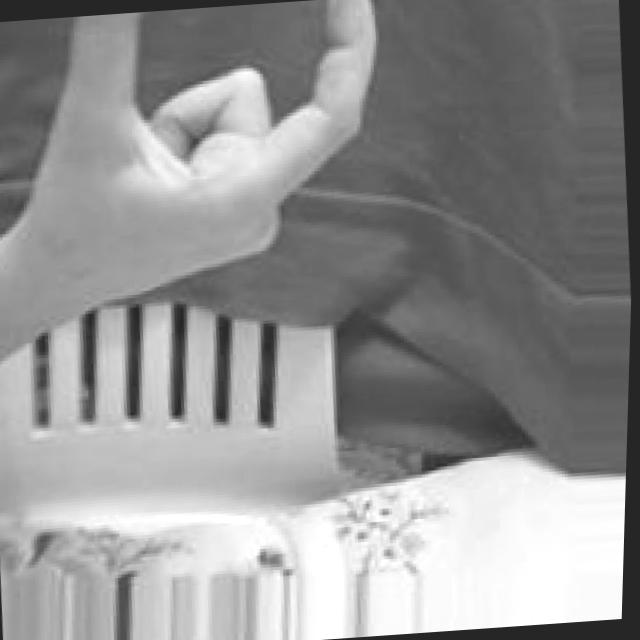U: (4, 0, 400, 308)
